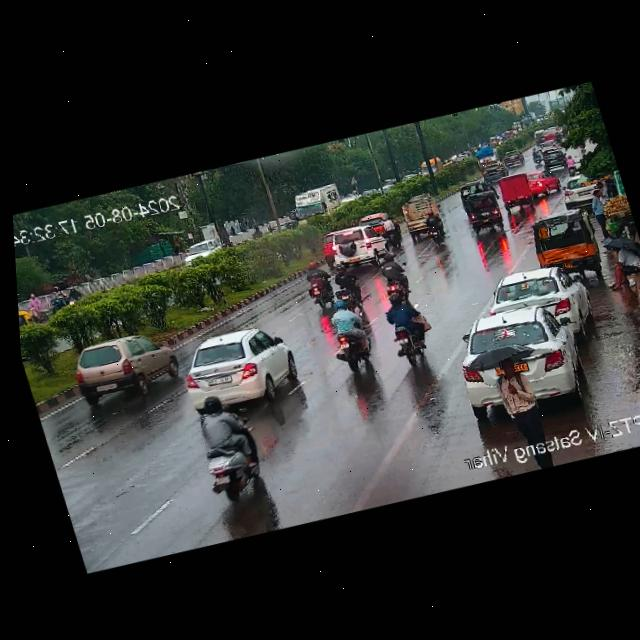bus: (515, 111, 540, 132), (418, 157, 442, 176)
car: (441, 295, 599, 420), (173, 320, 305, 416), (62, 323, 184, 409), (480, 258, 589, 337), (525, 207, 602, 278), (318, 221, 394, 275), (456, 193, 507, 238), (176, 230, 225, 266), (496, 172, 535, 210), (556, 172, 595, 210), (523, 166, 560, 198), (535, 145, 569, 171), (478, 157, 511, 183), (456, 179, 484, 208), (355, 209, 392, 229), (18, 306, 36, 334), (497, 150, 524, 168), (530, 129, 546, 145), (541, 139, 558, 151)
motorcycle: (182, 392, 273, 512), (325, 297, 381, 375), (378, 291, 434, 367), (292, 259, 334, 311), (374, 250, 413, 303), (327, 254, 364, 303), (45, 279, 87, 315), (410, 211, 448, 247), (421, 208, 446, 244), (378, 212, 403, 245), (562, 154, 579, 176), (529, 146, 543, 166), (553, 131, 564, 145)
person: (483, 339, 559, 474), (598, 242, 640, 292), (585, 188, 616, 241)
truck: (285, 178, 347, 226), (394, 189, 447, 241), (474, 144, 502, 172)
